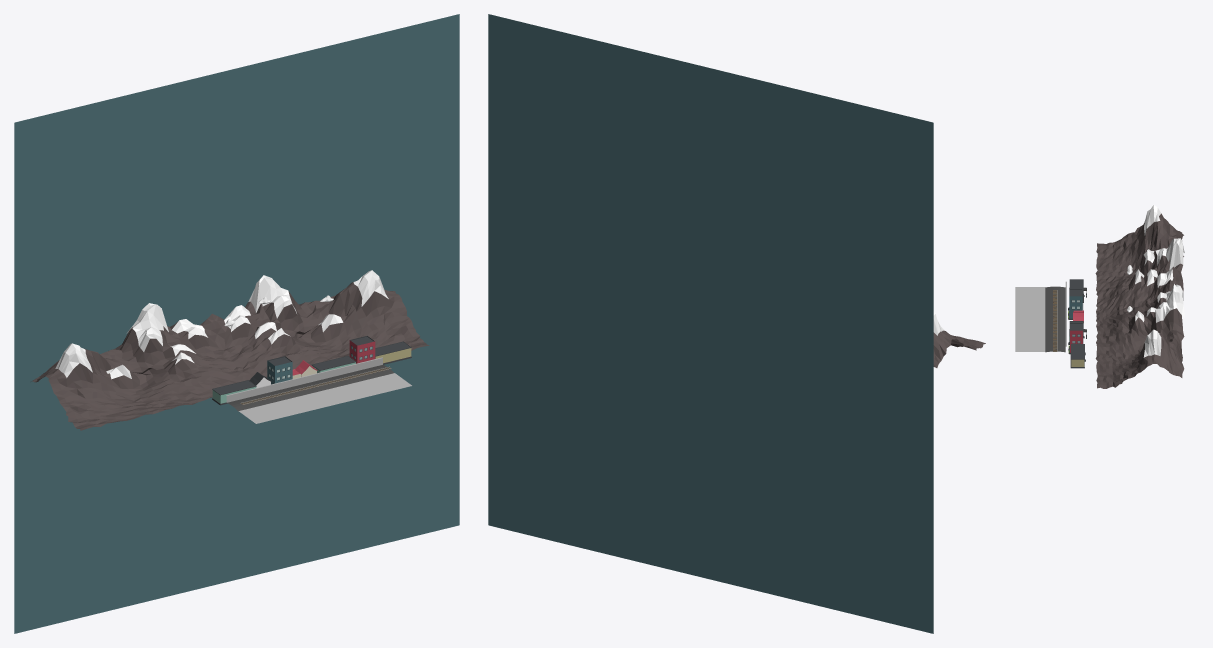
Rendered from CenaTrem.FBX.
3 renders of one model, left to right at view 1: azimuth 30°, elevation 25°; view 2: azimuth 150°, elevation 25°; view 3: azimuth 270°, elevation 25°, orthographic. The views are drawn at different scales.
Visible parts, largest first — view 1: CenaTrem; view 2: CenaTrem; view 3: CenaTrem.
Part boxes in pixels (x1,y1,x2,y2): CenaTrem: (14,14,459,633); CenaTrem: (488,14,985,633); CenaTrem: (1015,205,1184,388).
Size of the model in its own units: 6240 by 6851 by 2613.
